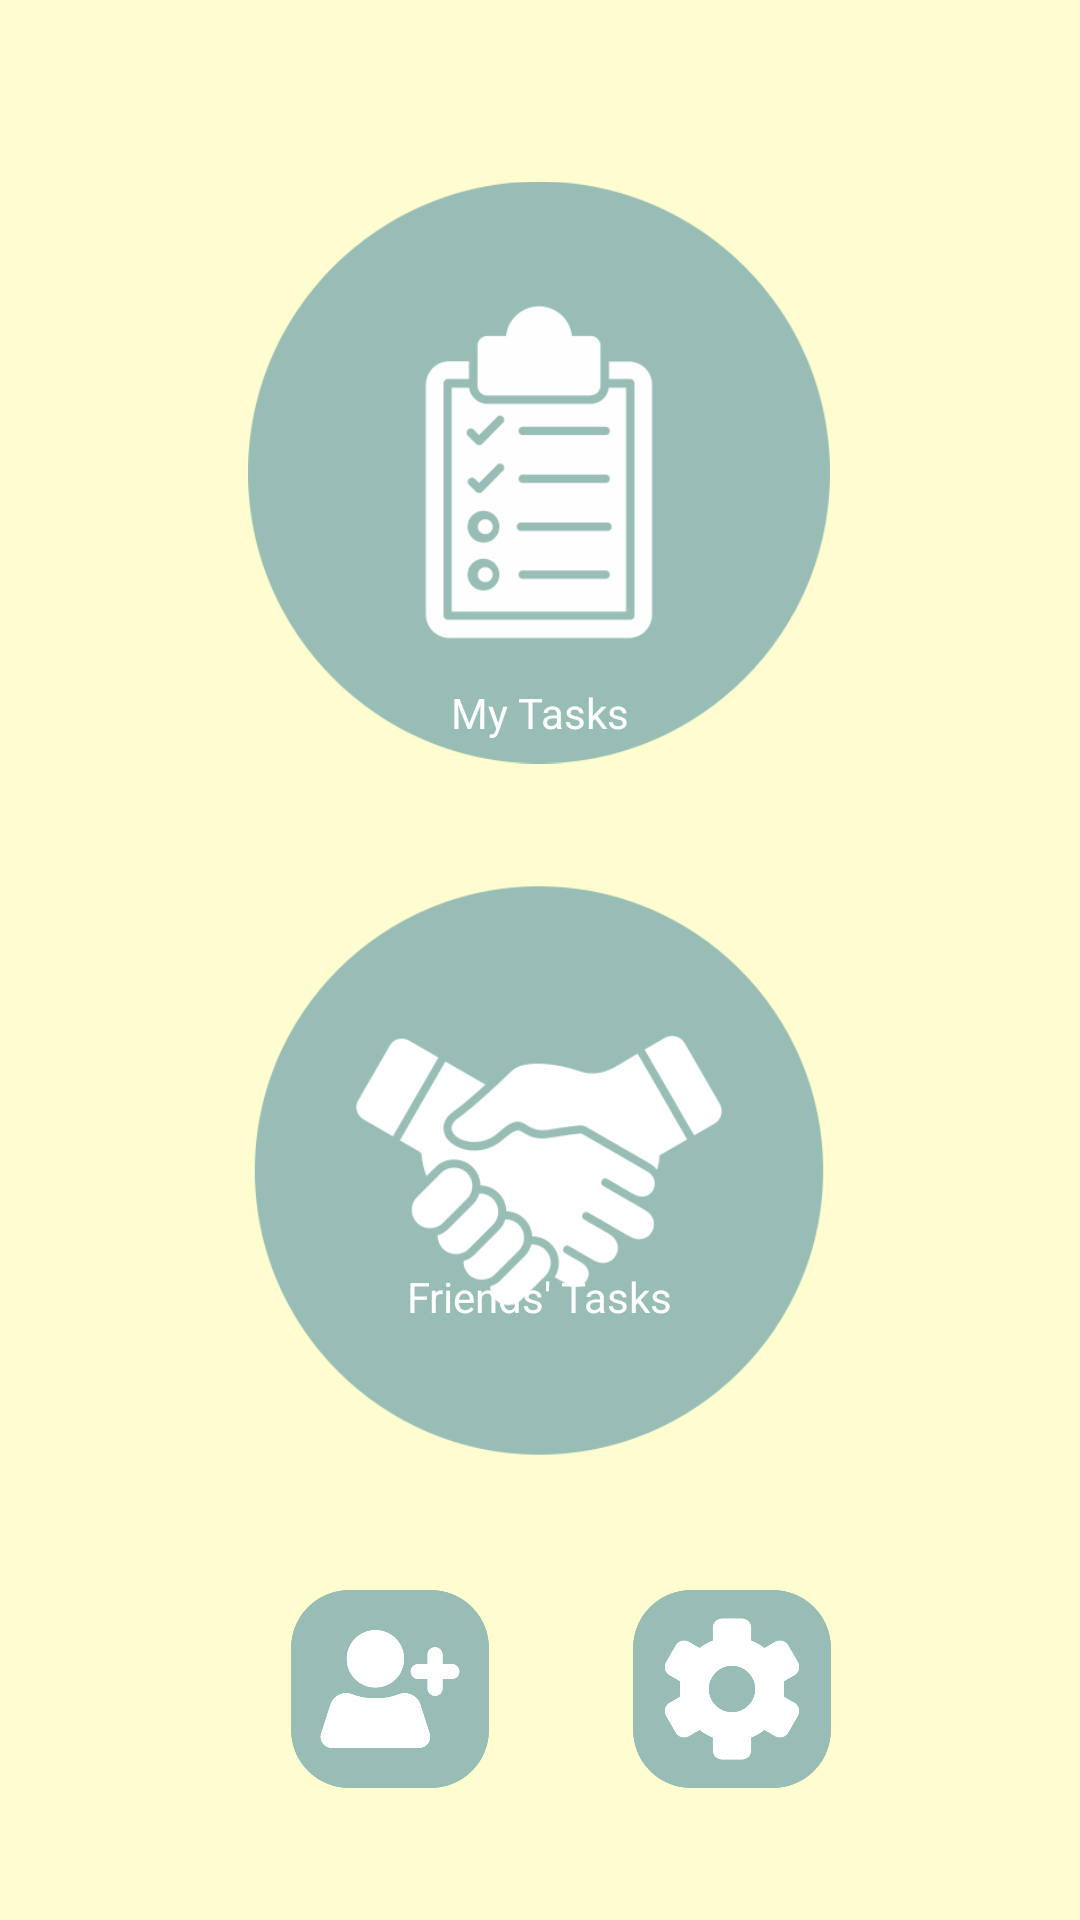

Icon bounding boxes for this 1080x1920 phone screenshot, format (x1, y1, x2, y2):
add user: (291, 1590, 489, 1788)
settings: (633, 1590, 831, 1788)
